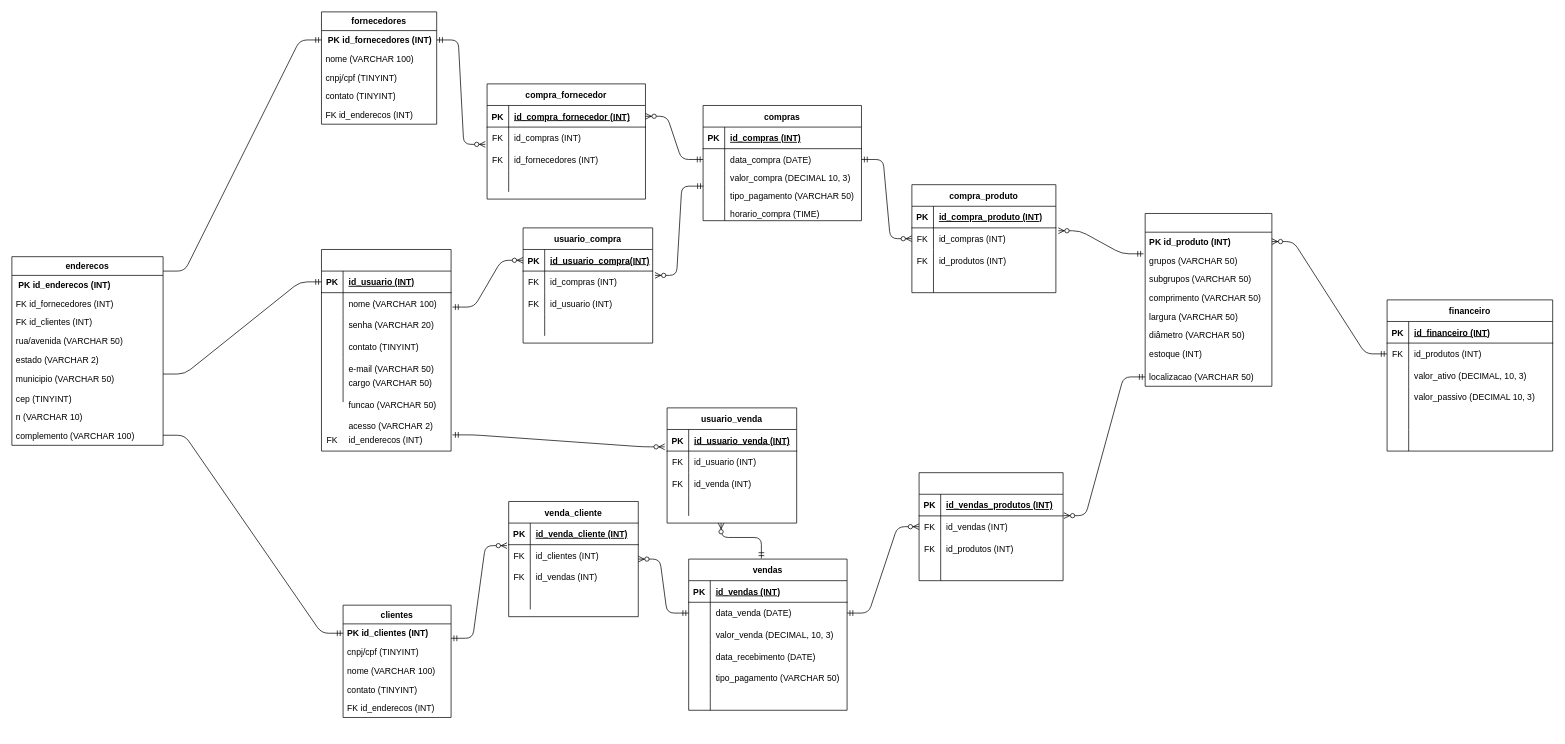
Image size: 1565x744. Some labels were removed from this diagram. Here are the shapes that lost their labels. From the top down, the box of each, then its label:
(1144, 213, 1272, 386): produtos
(321, 249, 451, 451): usuarios
(918, 472, 1063, 581): venda_produto
